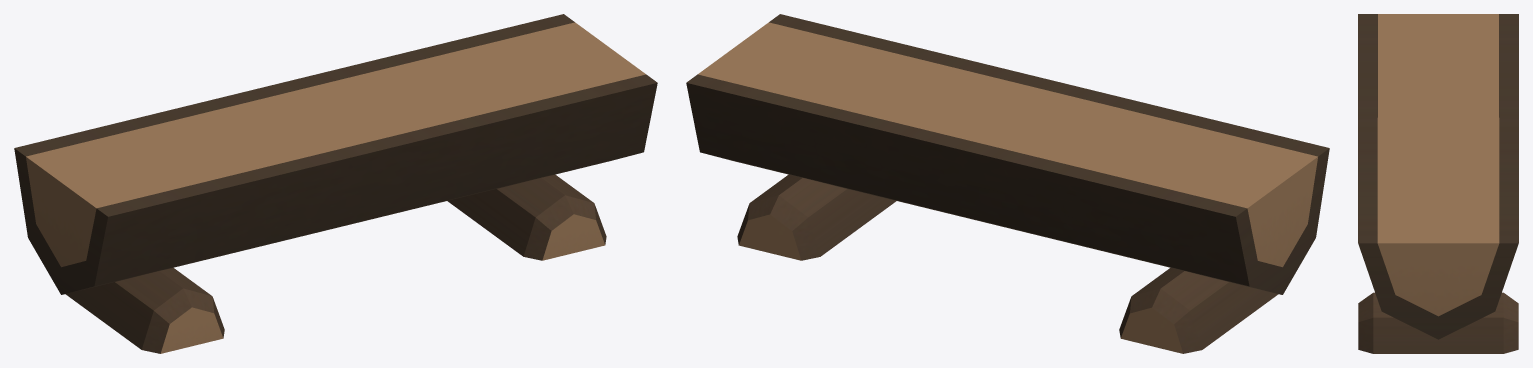
The model's file is Wood_Bench_B.obj.
3 views of the same model, side by side, from view 1: azimuth 30°, elevation 25°; view 2: azimuth 150°, elevation 25°; view 3: azimuth 270°, elevation 25° (orthographic). The views are drawn at different scales.
Parts seen in each view (by area): view 1: Wood_Bench_B; view 2: Wood_Bench_B; view 3: Wood_Bench_B.
Boxes of the visible parts, box(x1,y1,x2,y2) form: Wood_Bench_B: box(14, 14, 657, 353); Wood_Bench_B: box(686, 14, 1329, 353); Wood_Bench_B: box(1358, 14, 1518, 353).
Bounding box in the file's own units: 1.53 × 0.399 × 0.4531.
